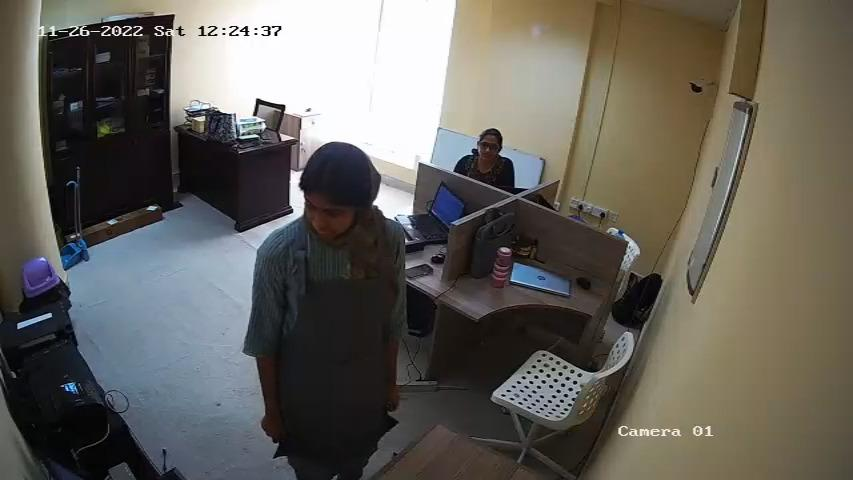apron: (283, 239, 395, 429)
